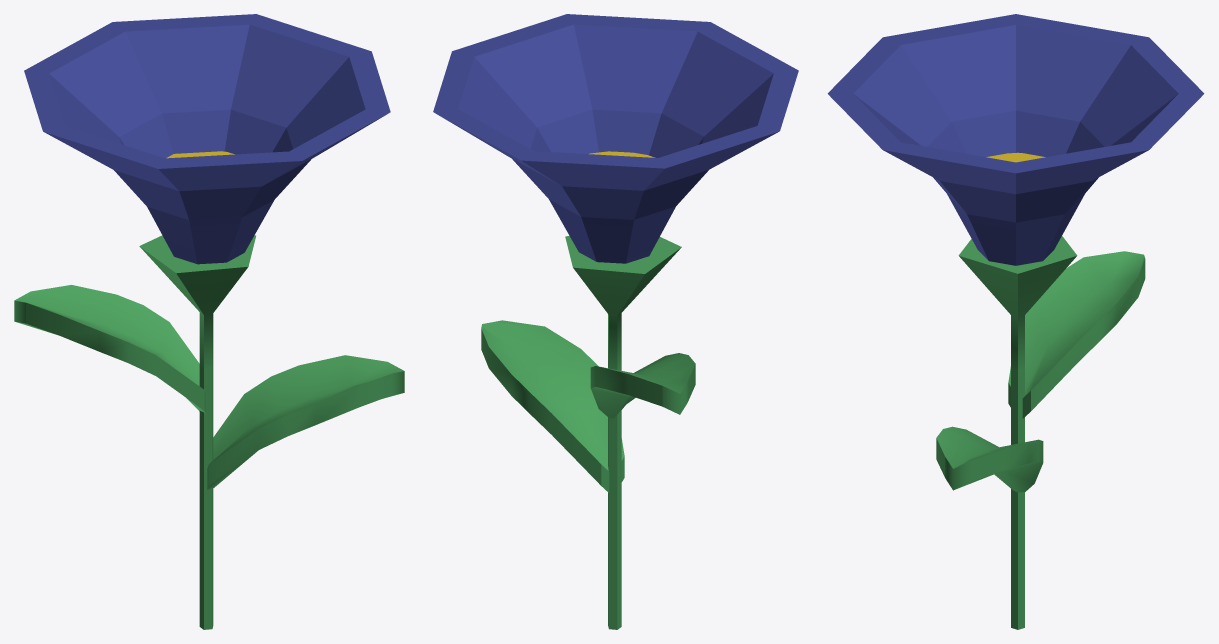
Rendered from Flower3.fbx.
3 views of the same model, side by side, from view 1: azimuth 30°, elevation 25°; view 2: azimuth 150°, elevation 25°; view 3: azimuth 270°, elevation 25° (orthographic).
Parts seen in each view (by area): view 1: Flower_3; view 2: Flower_3; view 3: Flower_3.
Part boxes in pixels (x1=…): Flower_3: x1=14, y1=14, x2=404, y2=629; Flower_3: x1=433, y1=14, x2=798, y2=629; Flower_3: x1=827, y1=14, x2=1204, y2=629.
Size of the model in its own units: 36.11 by 56.07 by 35.96.
